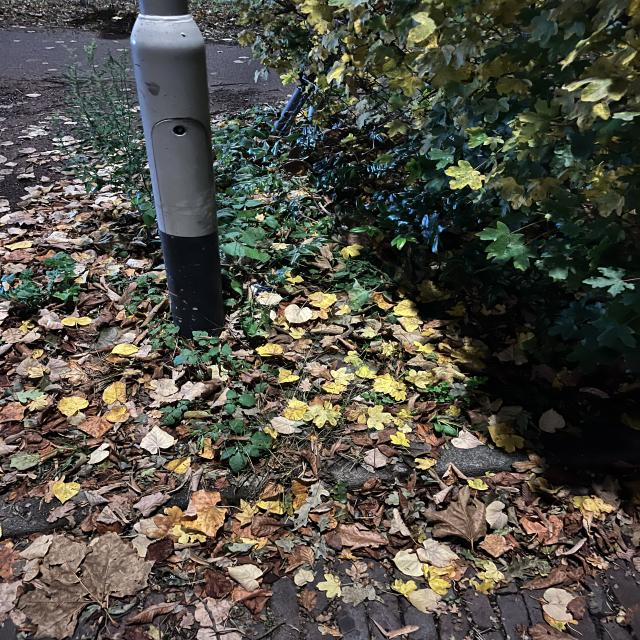leaves: (0, 482, 640, 640), (251, 280, 497, 453), (12, 307, 174, 472), (0, 186, 175, 273)
pavement: (10, 30, 136, 82), (204, 44, 292, 88)
plants: (263, 3, 640, 245), (410, 220, 640, 357), (163, 323, 299, 479), (212, 118, 342, 279), (60, 55, 165, 216)
